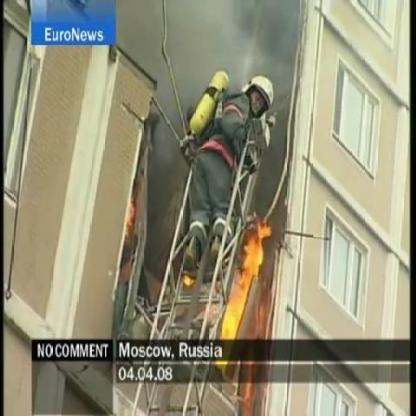fire: (219, 223, 275, 341), (126, 198, 138, 238), (182, 270, 194, 289)
